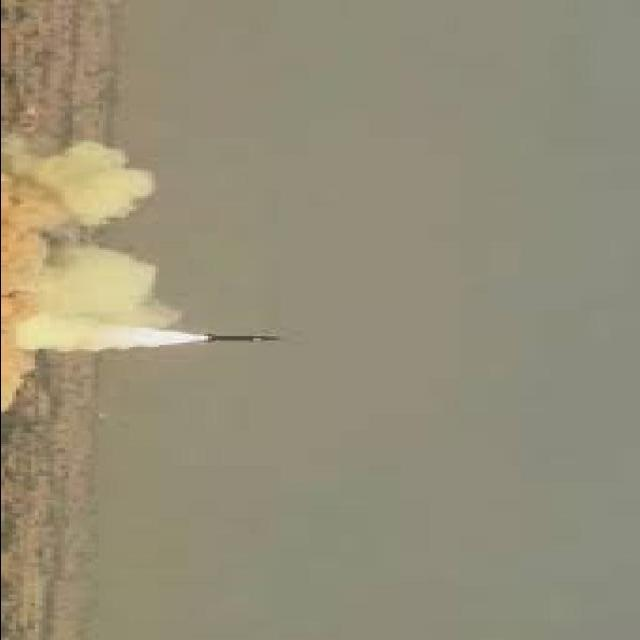missile: (201, 333, 285, 346)
